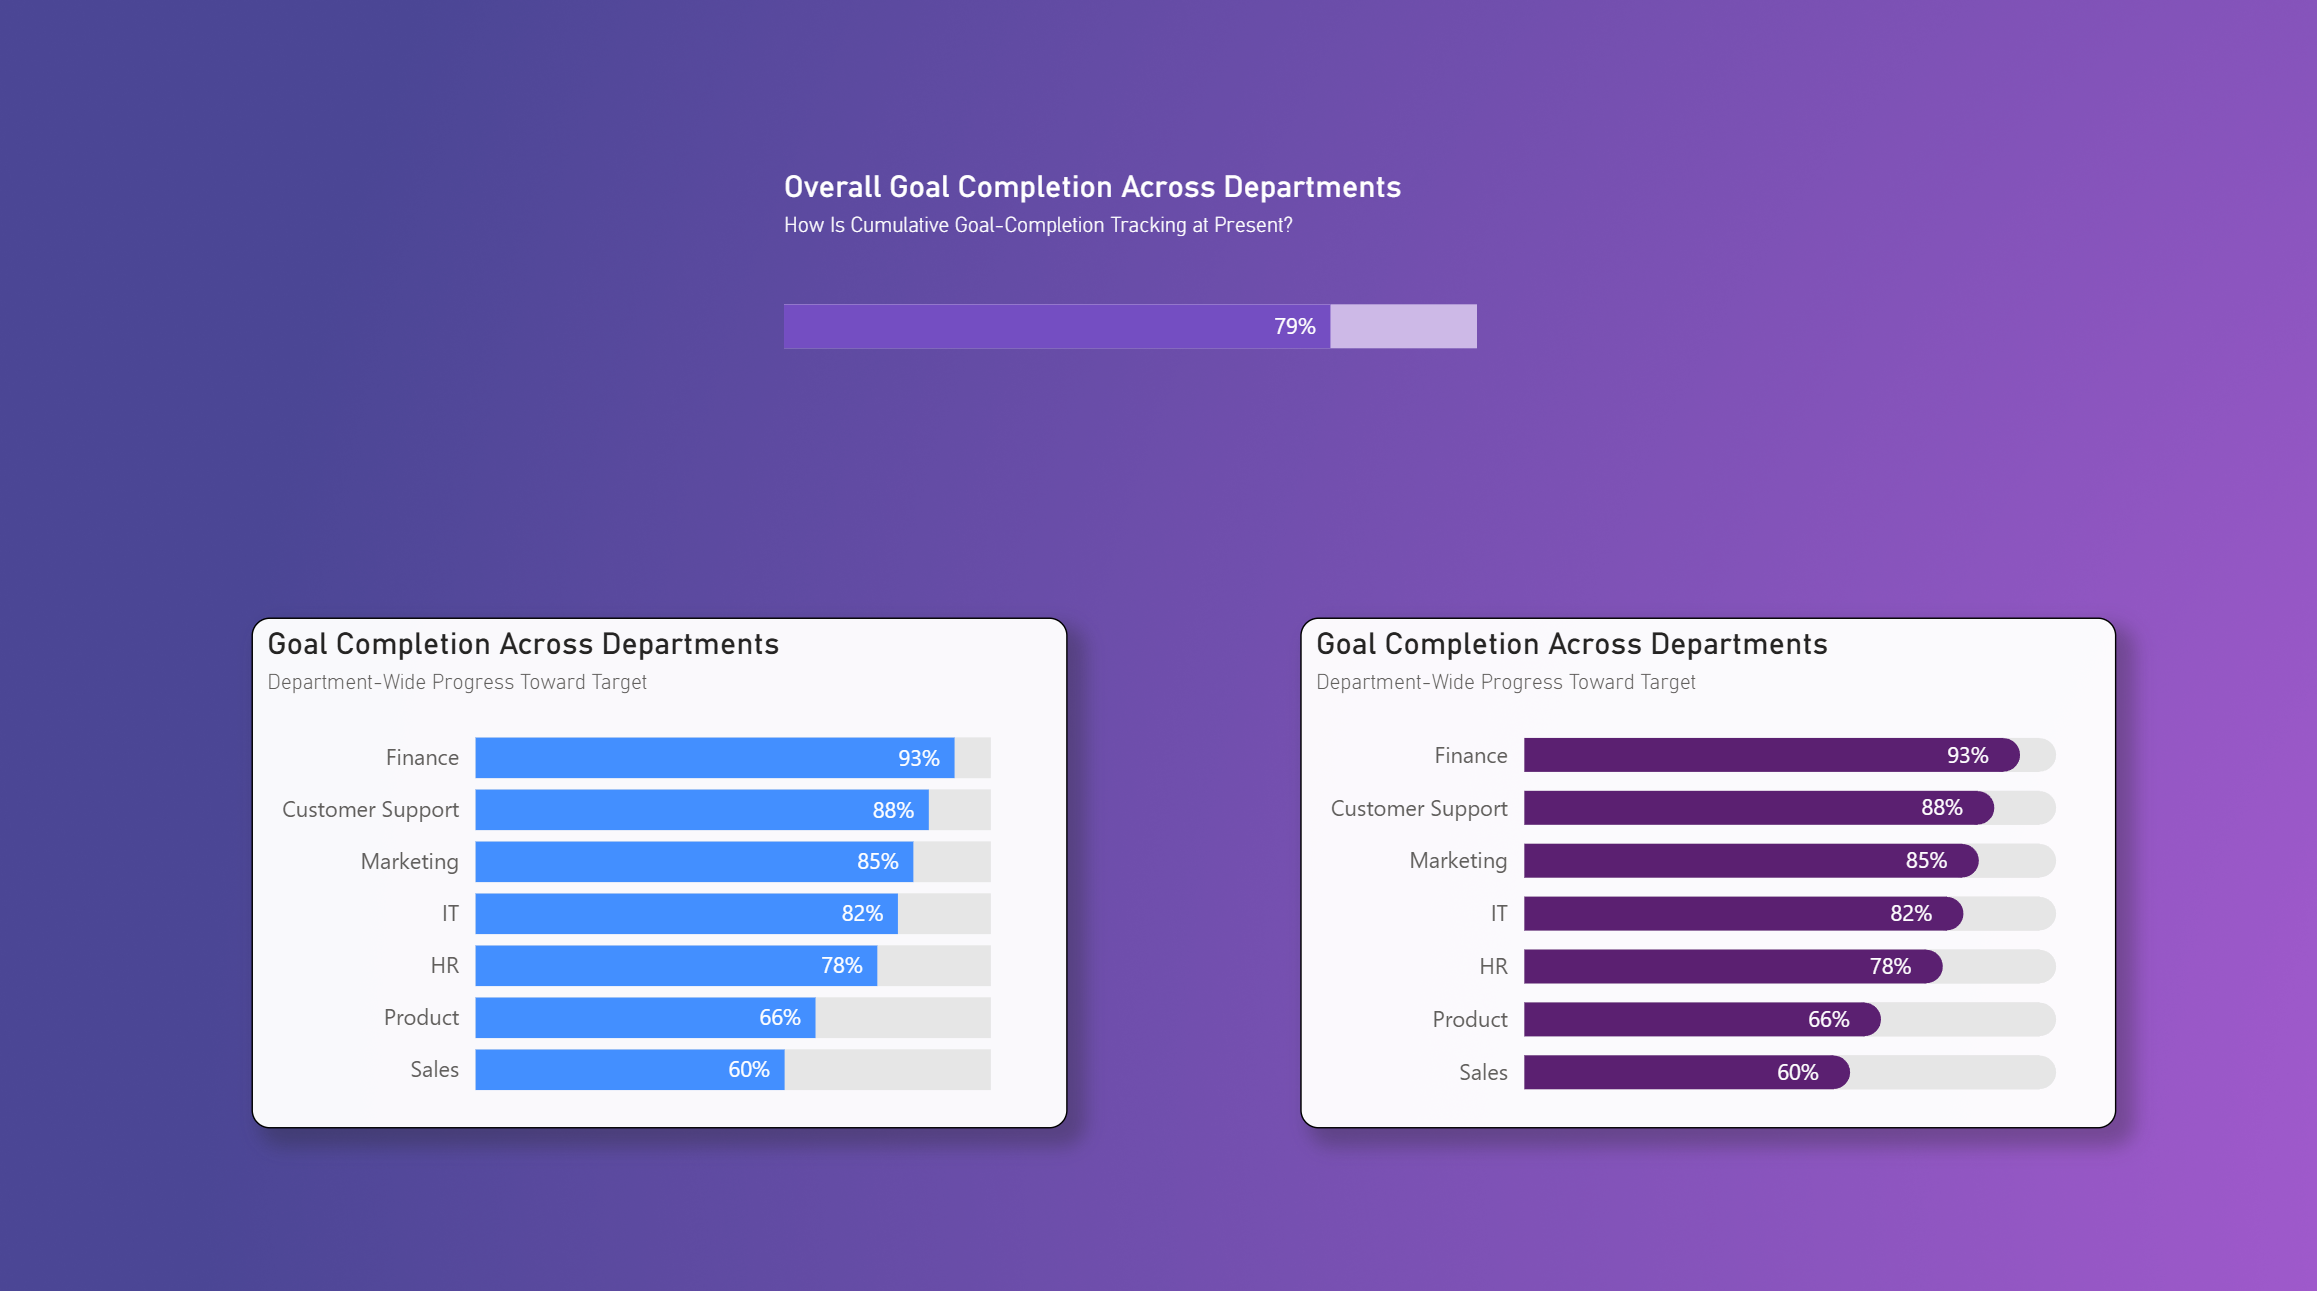

The page's visual inventory and layout, read from the dashboard file:
{"tool":"powerbi","page":{"name":"Progress Bar Charts","canvas":[1280,720],"ordinal":0},"visuals":[{"type":"clusteredBarChart","title":"Goal Completion Across Departments","fields":{"Category":["Department Progress.Department"],"Y":["Sum(Department Progress.Target Achieved)","Department Progress.Total"]},"box":[716,343.6,447.5,280.3],"z":0},{"type":"clusteredBarChart","title":"Goal Completion Across Departments","fields":{"Category":["Department Progress.Department"],"Y":["Sum(Department Progress.Target Achieved)","Department Progress.Total"]},"box":[141,343.6,447.5,280.3],"z":1000},{"type":"clusteredBarChart","title":"Overall Goal Completion Across Departments","fields":{"Y":["Department Progress.Overall Goal Completion Across Departments","Department Progress.Total"]},"box":[428.1,97.1,423.9,127.5],"z":2000}]}

Visuals, with their boxes in screenshot pixels (x1, y1, x2, y2), scaled from the page's 1280x720 canvas onto the 2317x1291 screenshot:
"Goal Completion Across Departments" clusteredBarChart: (x1=1296, y1=616, x2=2106, y2=1119)
"Goal Completion Across Departments" clusteredBarChart: (x1=255, y1=616, x2=1065, y2=1119)
"Overall Goal Completion Across Departments" clusteredBarChart: (x1=775, y1=174, x2=1542, y2=403)
